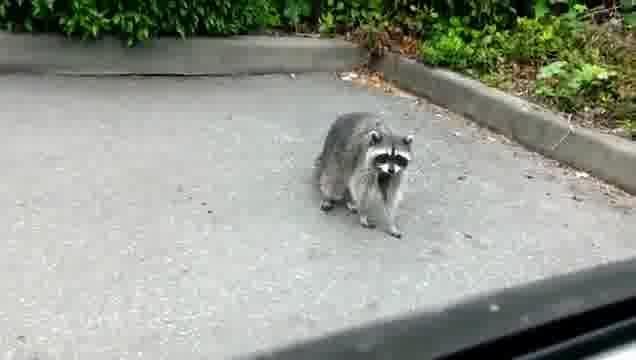raccoon: (315, 114, 413, 238)
